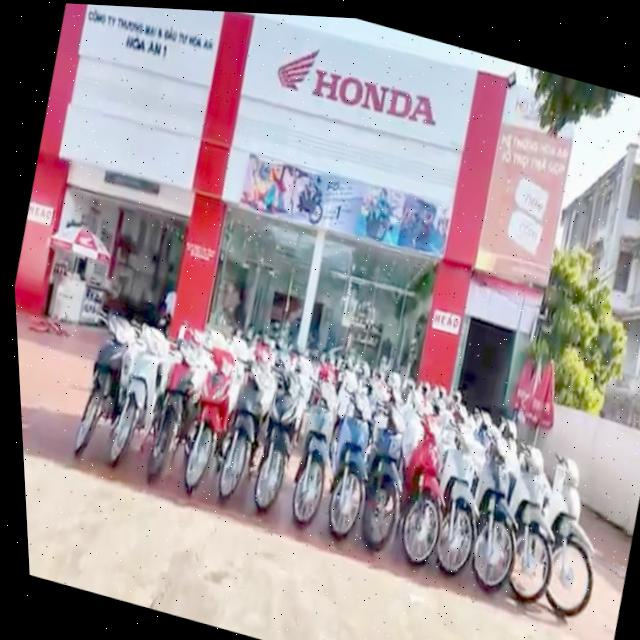motorcycle: (519, 448, 623, 629), (449, 431, 550, 606), (412, 418, 504, 592), (484, 440, 577, 612), (376, 409, 470, 578), (231, 362, 317, 528), (162, 335, 246, 503), (94, 315, 177, 483), (273, 370, 354, 536), (199, 350, 280, 515), (341, 397, 424, 558), (309, 383, 389, 547), (55, 299, 133, 466), (133, 326, 210, 492)
